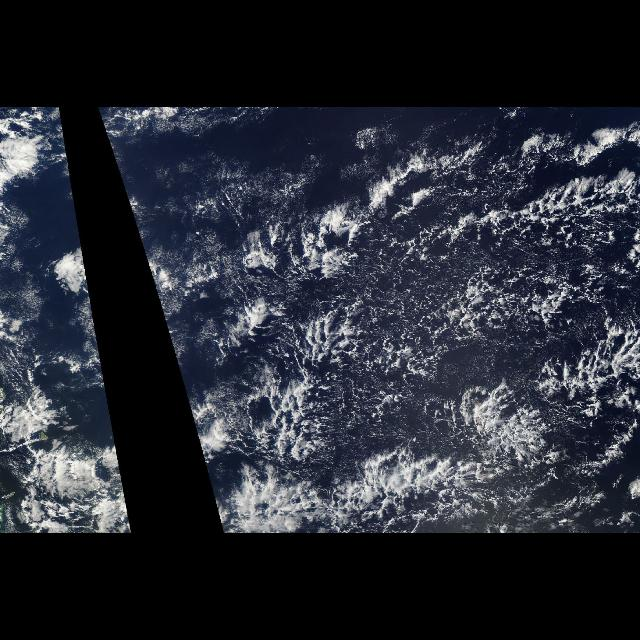Gravel: (357, 201, 633, 377)
